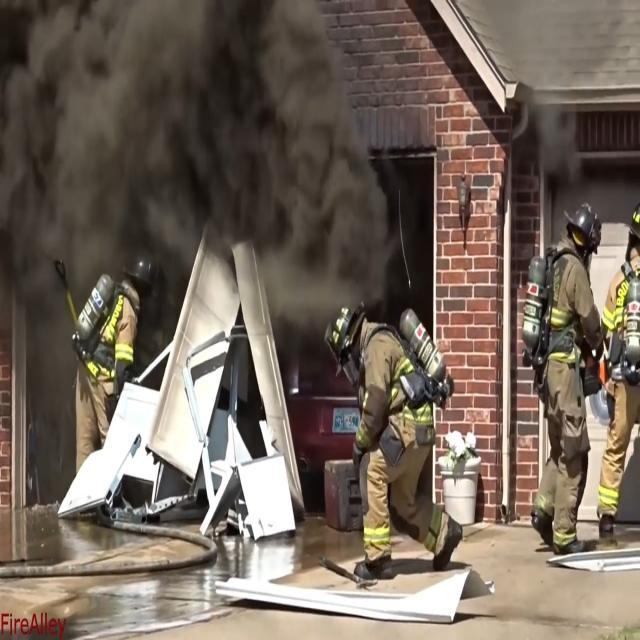Smoke: (31, 16, 386, 302)
